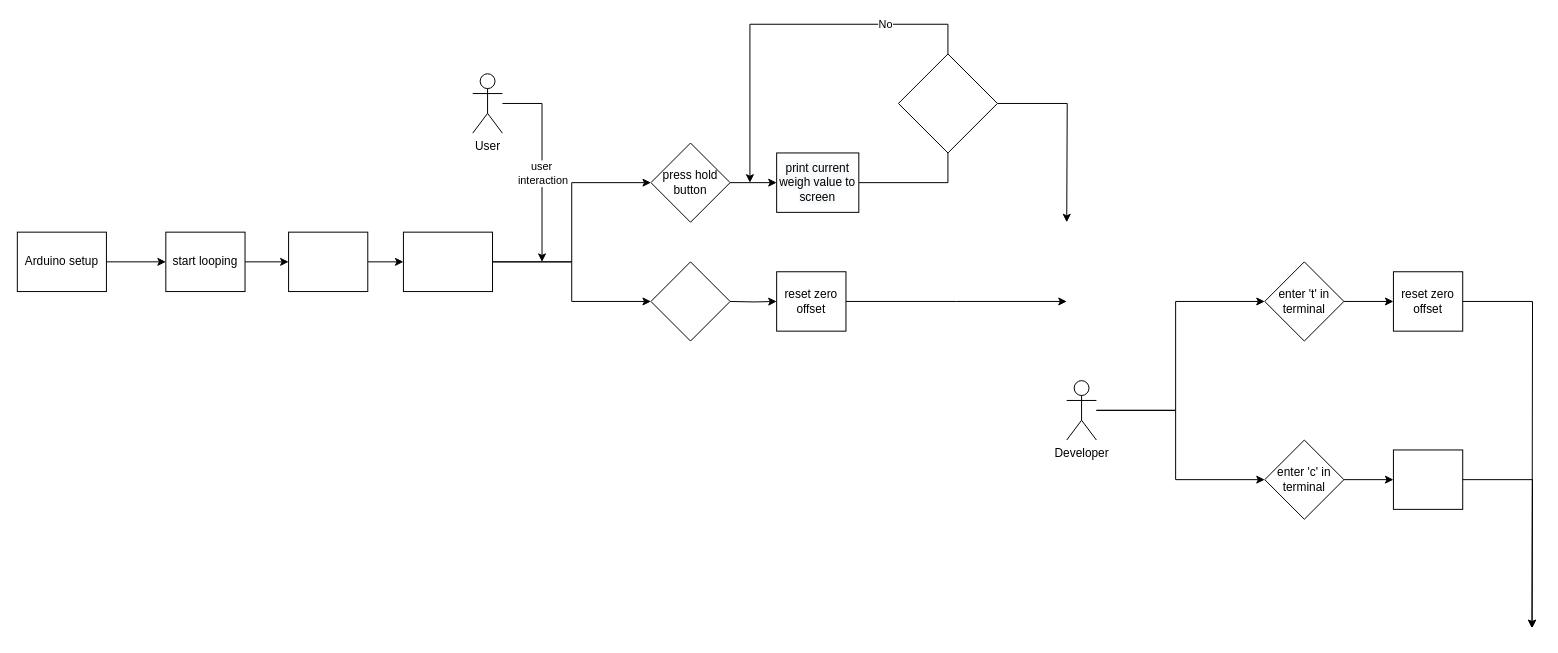
The diagram is 1558 pixels wide and 653 high, and some of its shapes have lost their labels. Each missing label, with the box of its shape:
calibrate scale: (1392, 449, 1463, 509)
press hold button to stop holding: (897, 53, 997, 153)
press tare button: (650, 261, 730, 341)
print output value to lcd screen: (402, 231, 493, 292)
Read digital value from chip: (288, 231, 368, 292)
